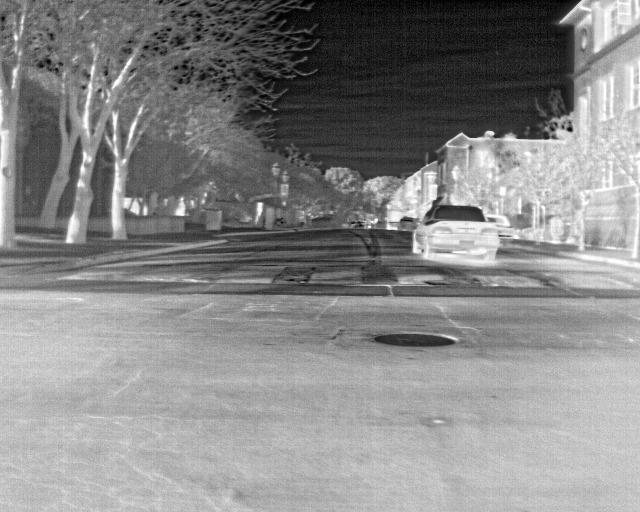car: (412, 205, 502, 267), (483, 211, 518, 245), (397, 216, 415, 232)
